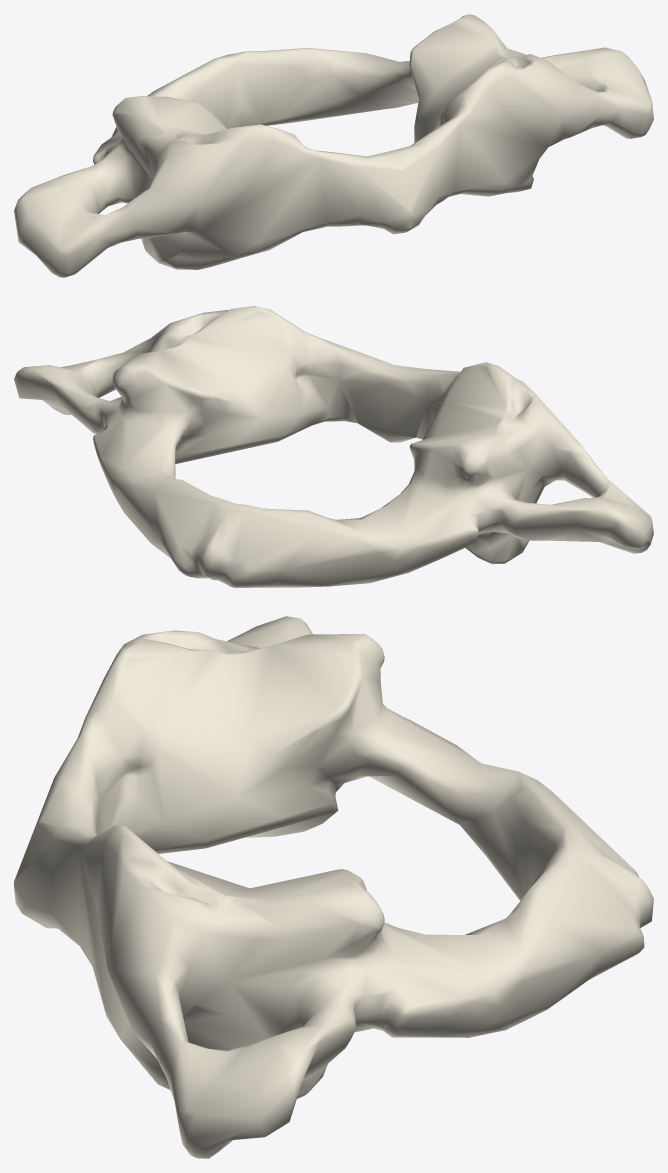
3 renders of one model, top to bottom at view 1: azimuth 30°, elevation 25°; view 2: azimuth 150°, elevation 25°; view 3: azimuth 270°, elevation 25°, orthographic. The views are drawn at different scales.
Parts seen in each view (by area): view 1: ZA_7fb5720fb1239ed9; view 2: ZA_7fb5720fb1239ed9; view 3: ZA_7fb5720fb1239ed9.
Boxes of the visible parts, <box> form: ZA_7fb5720fb1239ed9: <box>14,14,653,277</box>; ZA_7fb5720fb1239ed9: <box>14,306,653,587</box>; ZA_7fb5720fb1239ed9: <box>14,616,653,1158</box>.
Bounding box in the file's own units: 0.0861 × 0.0196 × 0.0491.
